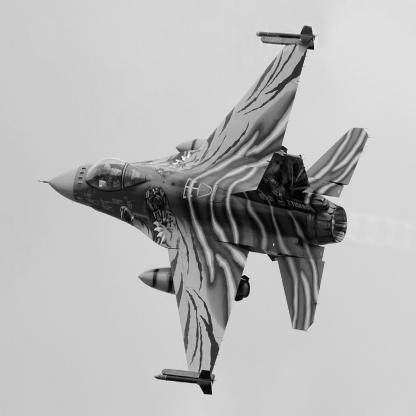F16: (39, 27, 373, 396)
